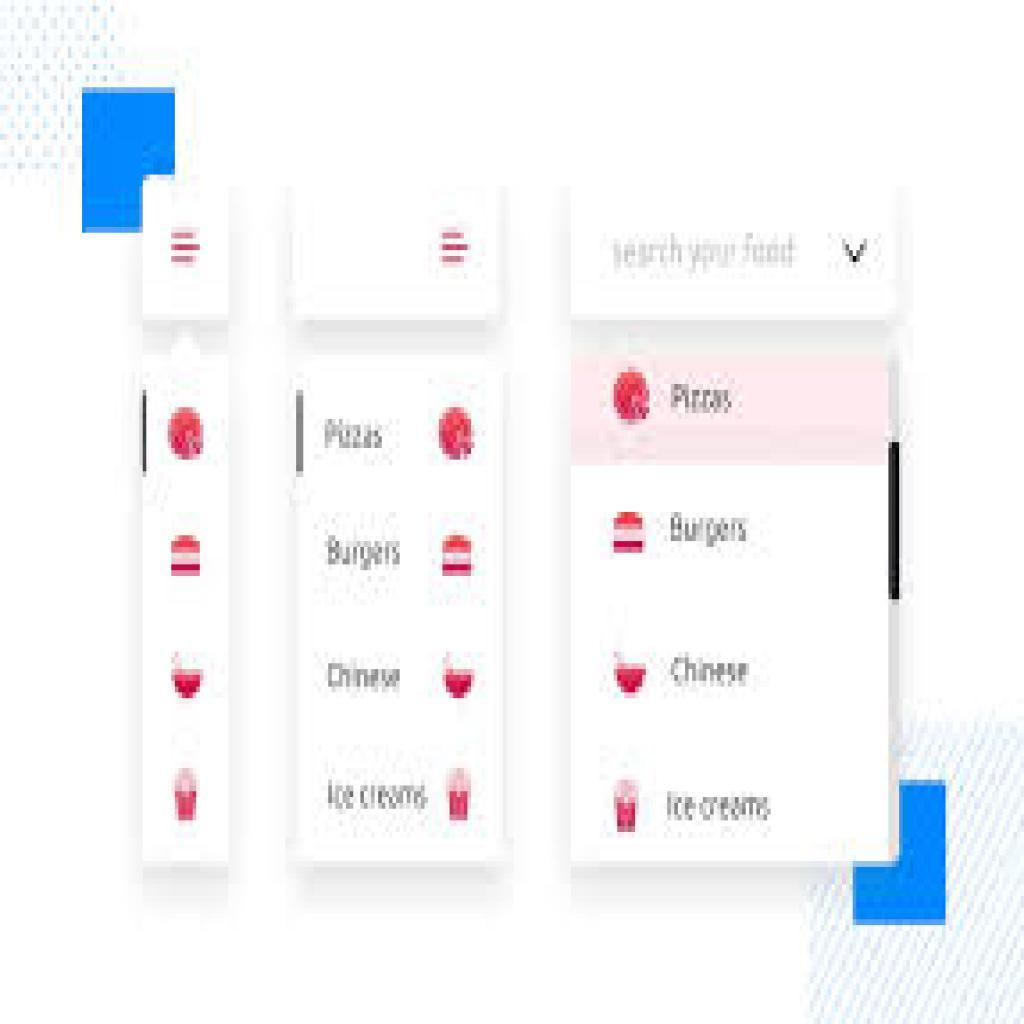dropdown: (566, 180, 907, 327)
icon: (432, 390, 486, 484), (435, 760, 491, 842), (162, 401, 218, 471), (165, 643, 218, 716), (162, 762, 215, 835), (434, 650, 487, 718), (164, 522, 216, 591), (431, 526, 486, 591), (601, 640, 654, 707), (599, 763, 644, 838), (609, 363, 654, 436), (602, 501, 651, 567), (159, 215, 211, 275)
input: (297, 185, 502, 327)
